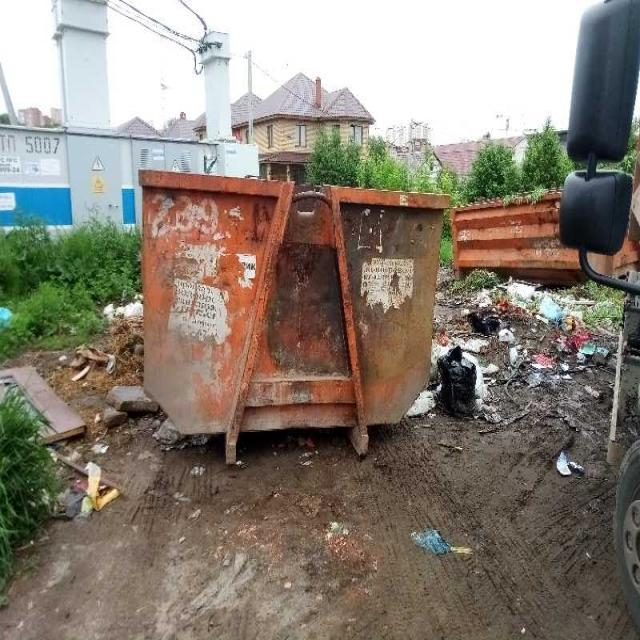Dumpster: (137, 174, 447, 438)
